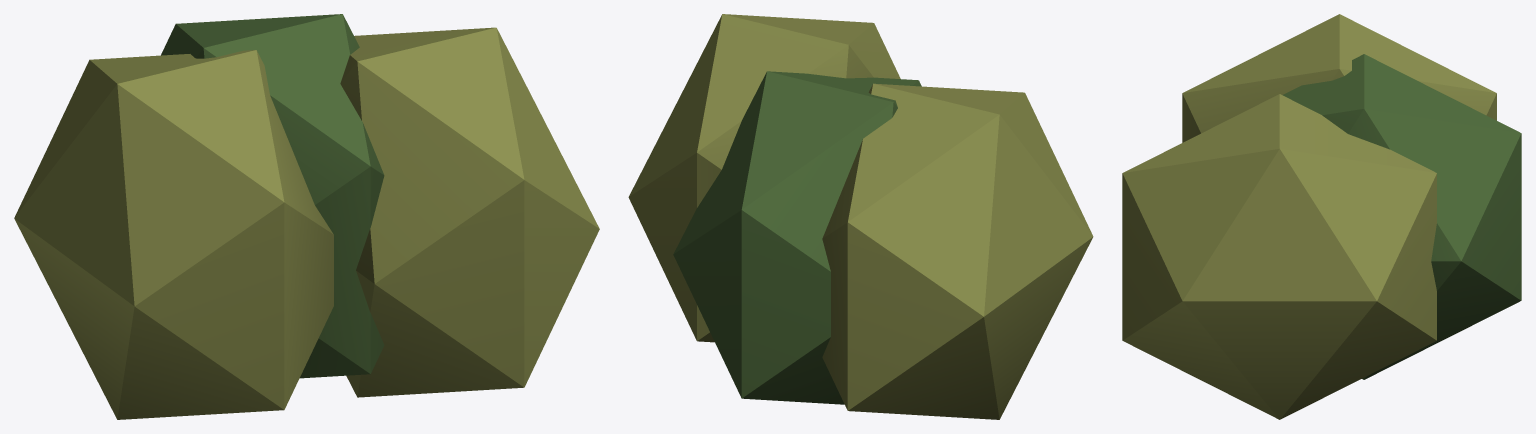
Rendered from shrub-fynbos-3.glb.
The picture shows the model from 3 angles, left to right: view 1: azimuth 30°, elevation 25°; view 2: azimuth 150°, elevation 25°; view 3: azimuth 270°, elevation 25°; orthographic projection. The views are drawn at different scales.
Parts seen in each view (by area): view 1: shrub-fynbos-3; view 2: shrub-fynbos-3; view 3: shrub-fynbos-3.
Part boxes in pixels (left/top/right/bottom): shrub-fynbos-3: left=14, top=14, right=599, bottom=419; shrub-fynbos-3: left=628, top=14, right=1093, bottom=419; shrub-fynbos-3: left=1122, top=14, right=1521, bottom=419.
Bounding box in the file's own units: 2 × 1.5 × 2.
